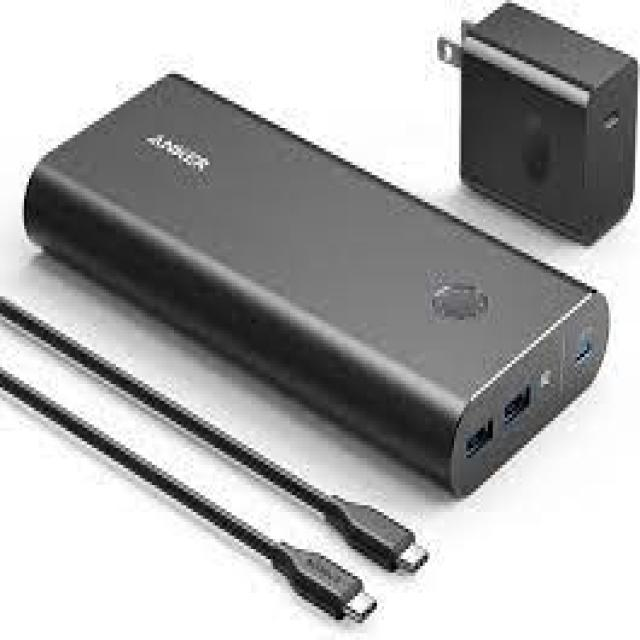portable-charger: (22, 61, 615, 508)
